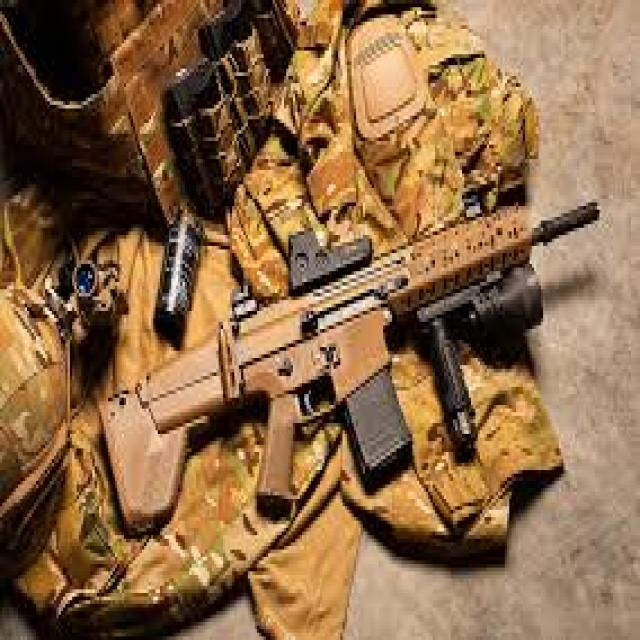Gun: (102, 182, 613, 512)
